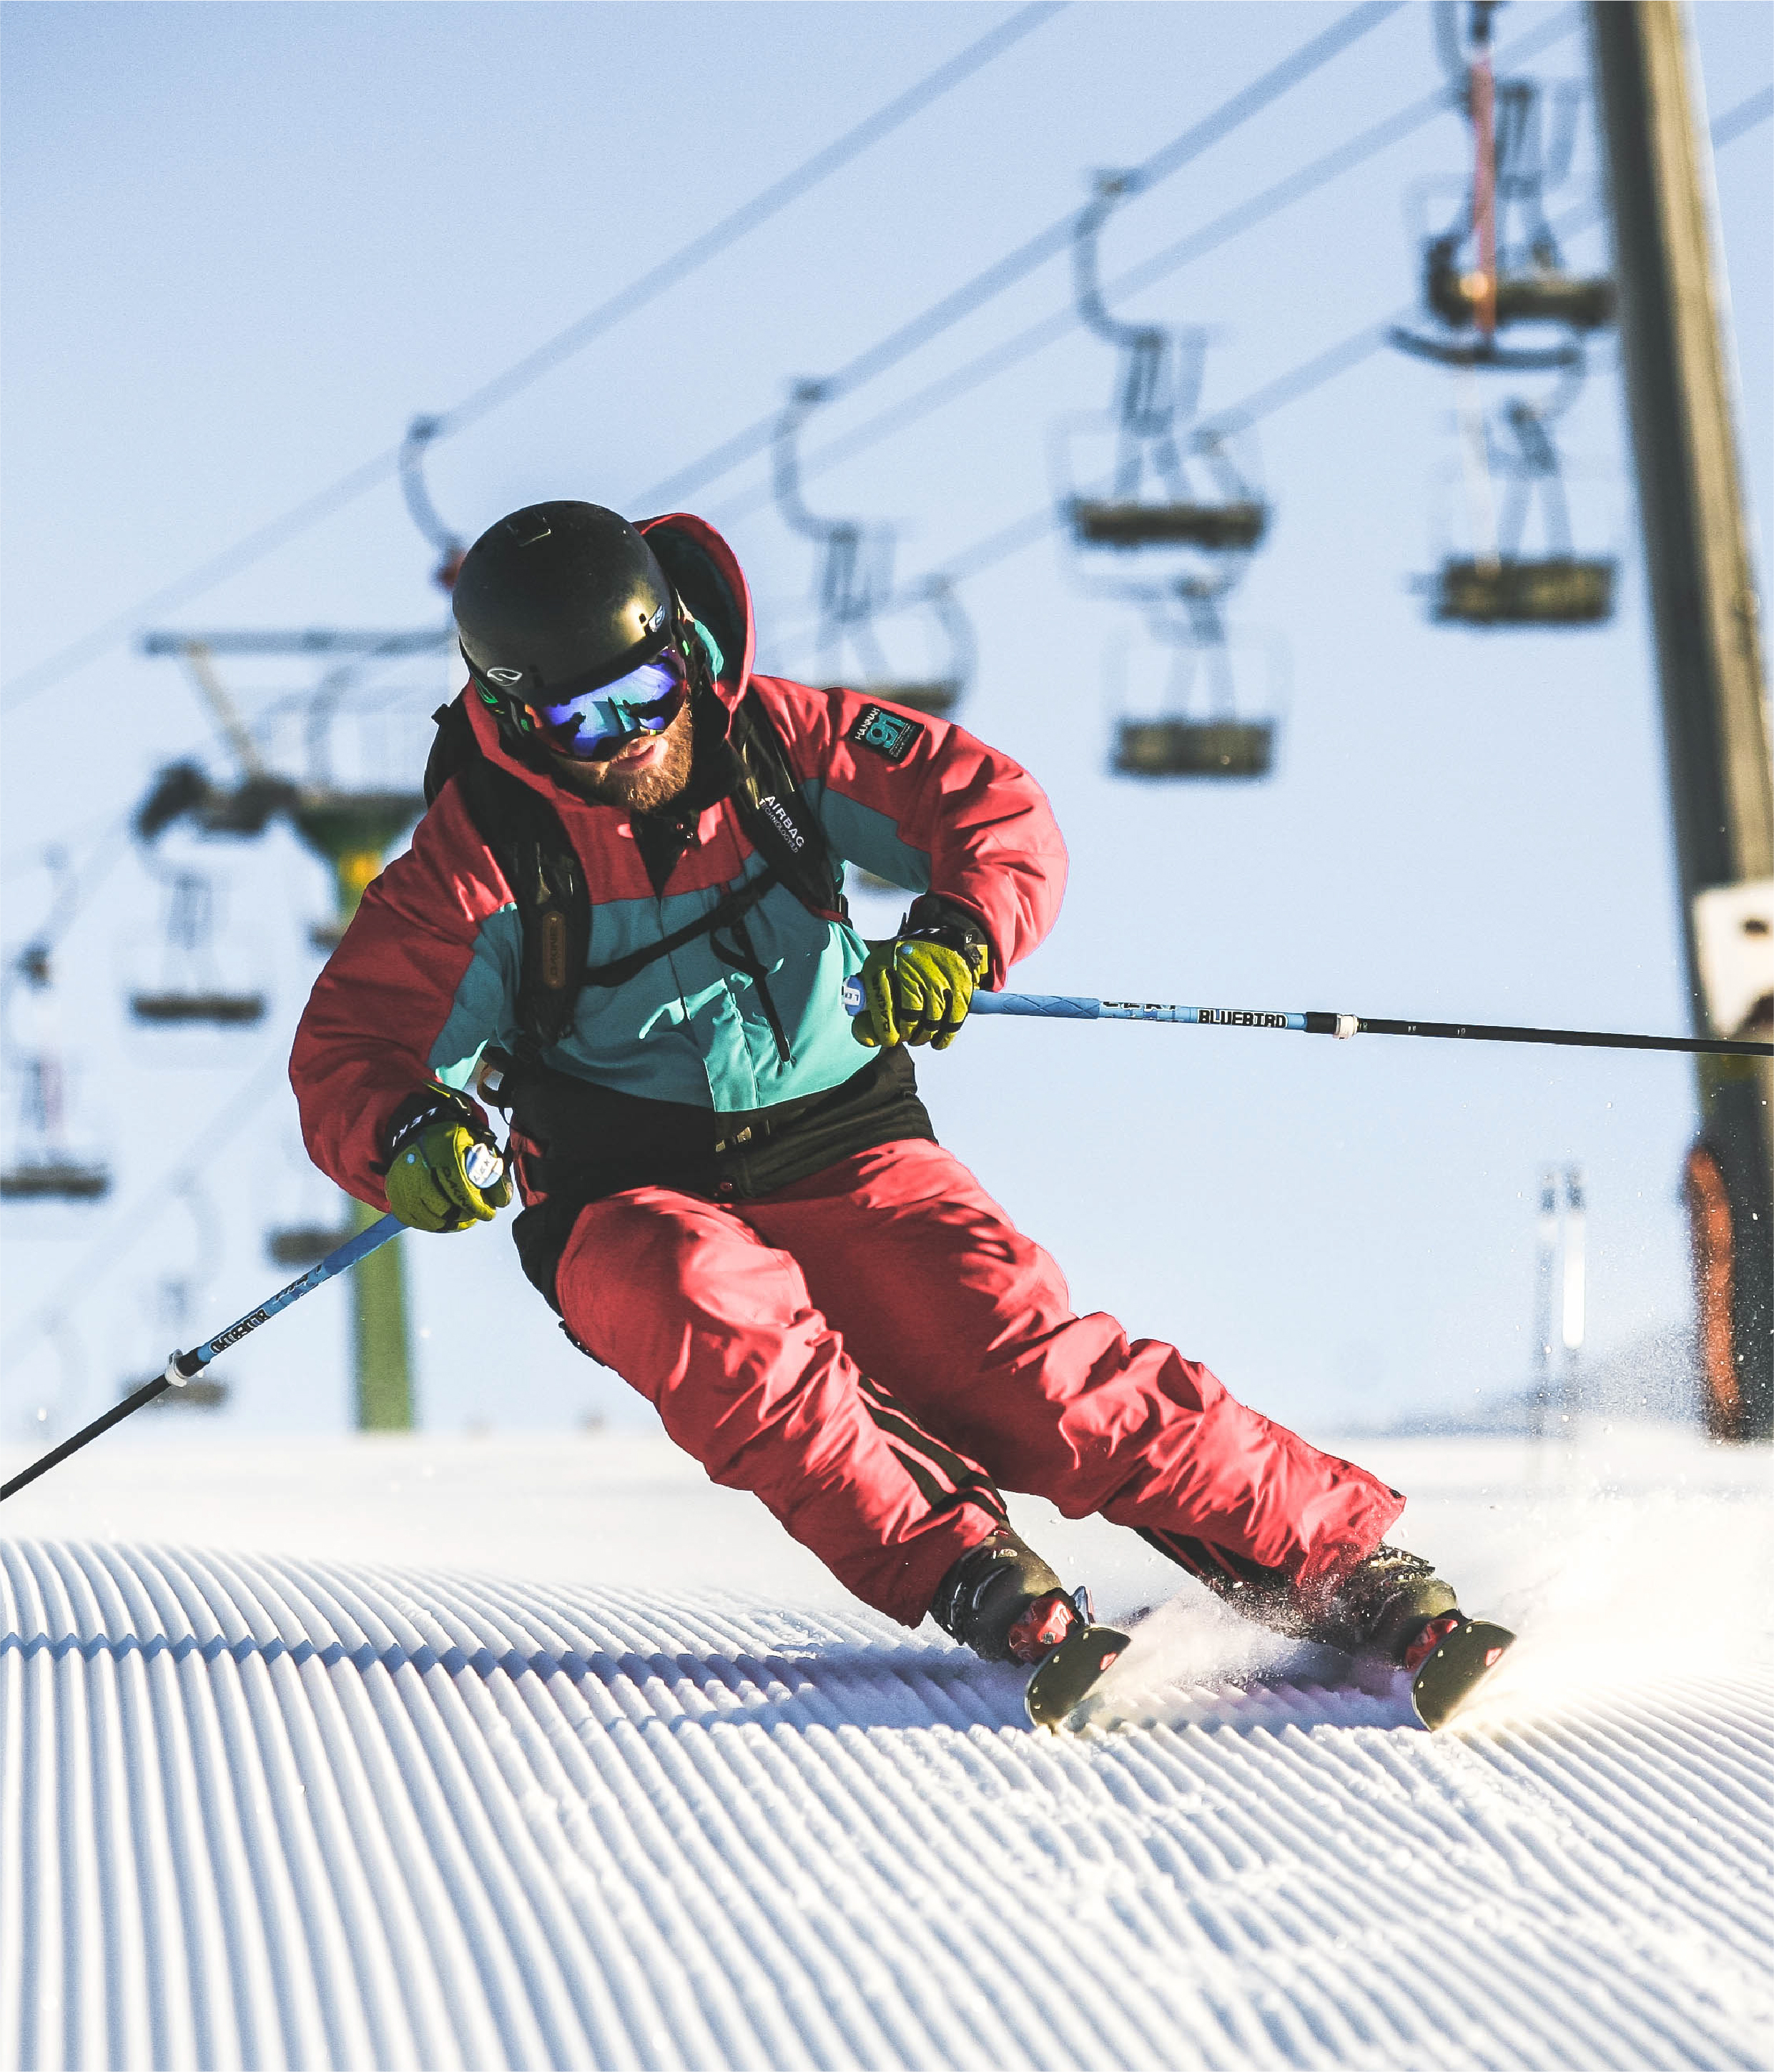skier: (23, 466, 1609, 1845)
